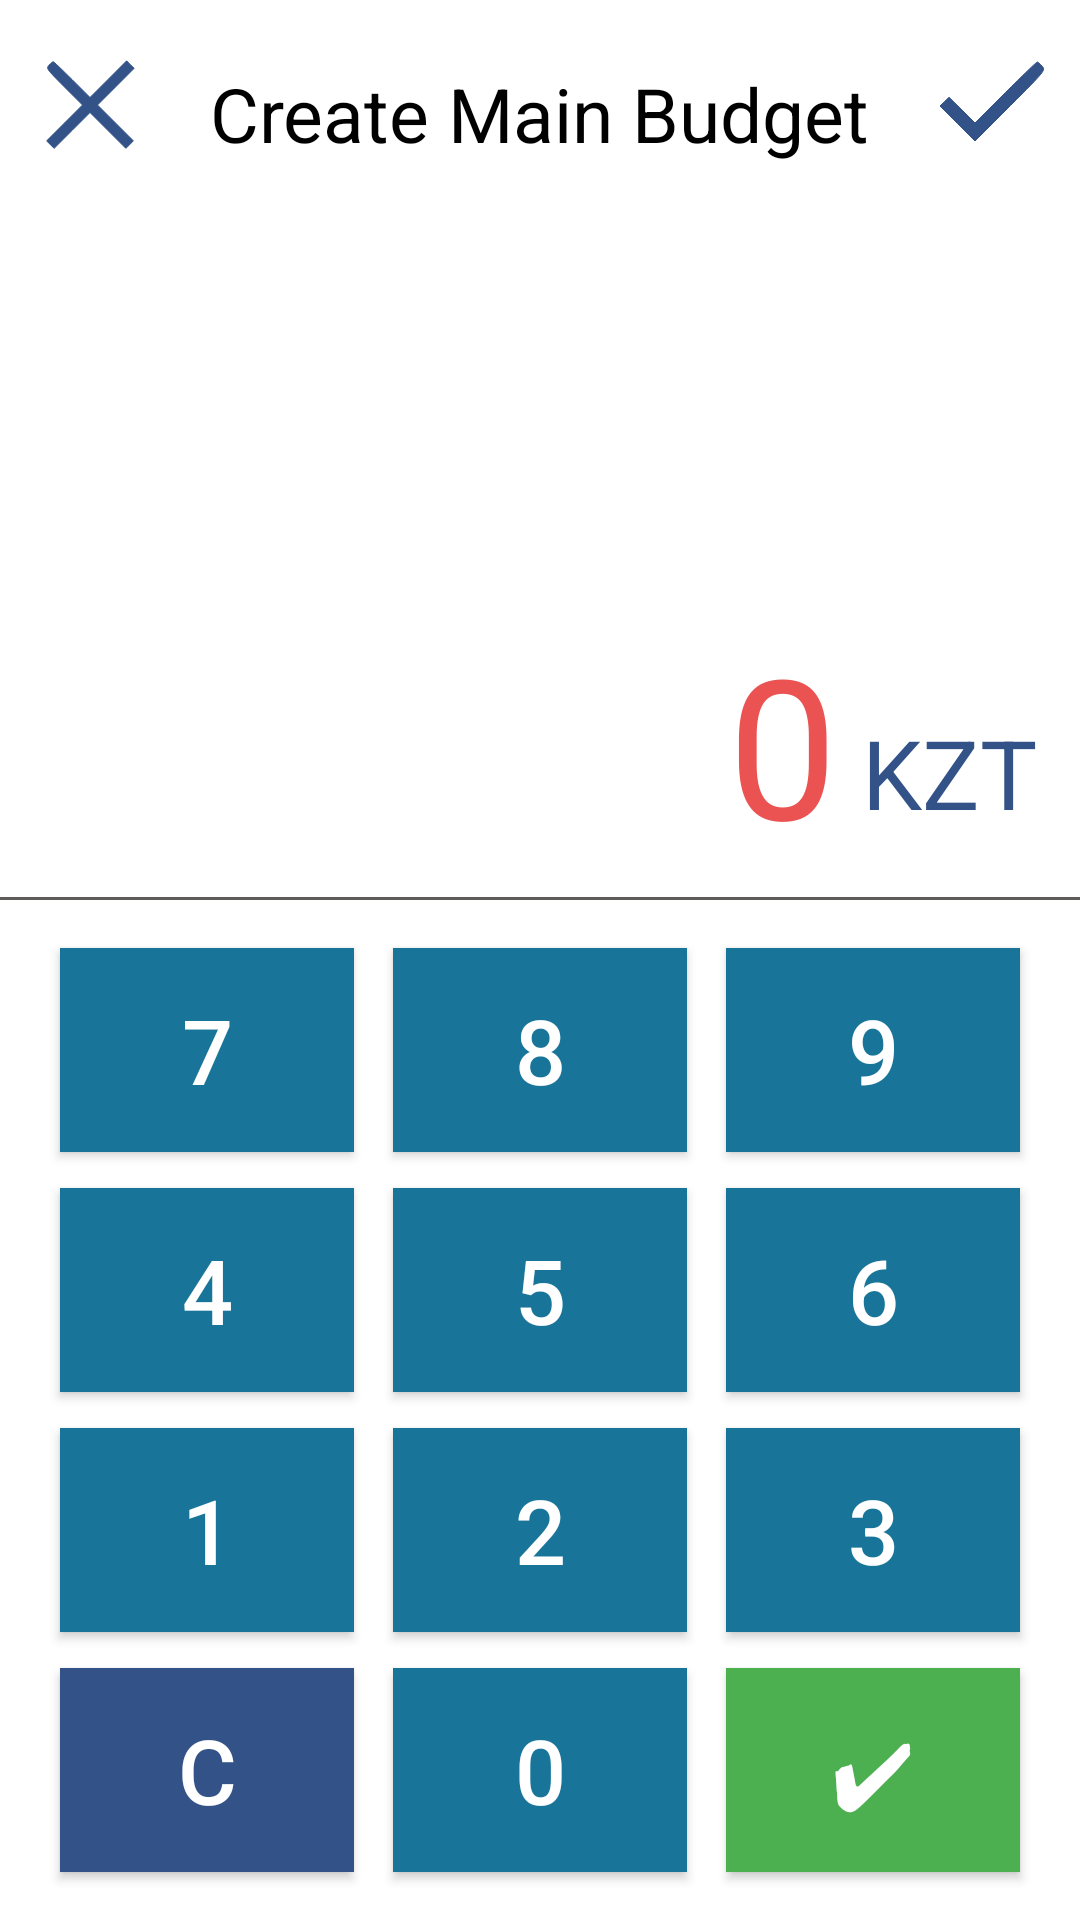

Where to tap for icons on this 1080*1920 app screen, as point (x, y):
close: point (90, 104)
done: point (992, 101)
